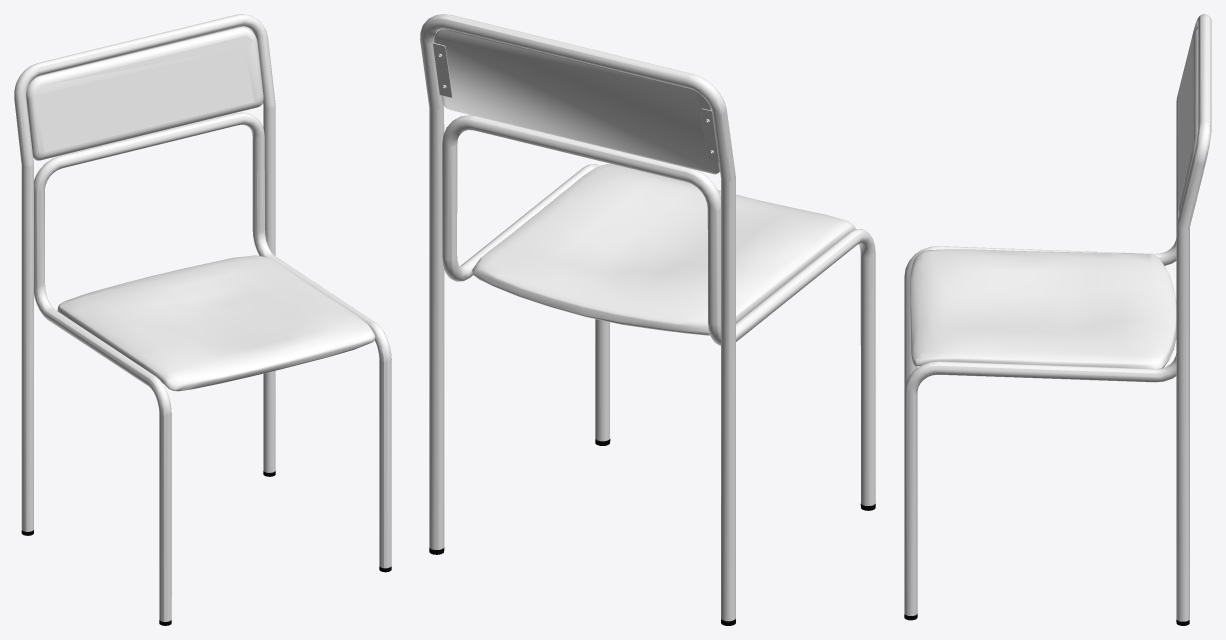
The model's file is bk_med_stool.glb.
3 views of the same model, side by side, from view 1: azimuth 30°, elevation 25°; view 2: azimuth 150°, elevation 25°; view 3: azimuth 270°, elevation 25° (orthographic). The views are drawn at different scales.
Visible parts, largest first — view 1: Askona Medical Stool; view 2: Askona Medical Stool; view 3: Askona Medical Stool.
Part boxes in pixels (bbox=[...]): Askona Medical Stool: bbox=[14, 14, 391, 625]; Askona Medical Stool: bbox=[420, 14, 875, 625]; Askona Medical Stool: bbox=[904, 14, 1211, 625].
Size of the model in its own units: 0.4683 by 0.8102 by 0.4601.
Materials: 3 (1 with a texture image).
